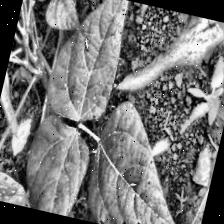ALS: (79, 98, 207, 224), (45, 0, 135, 125), (0, 162, 53, 211)
